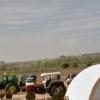Tractor: (20, 67, 68, 100)
